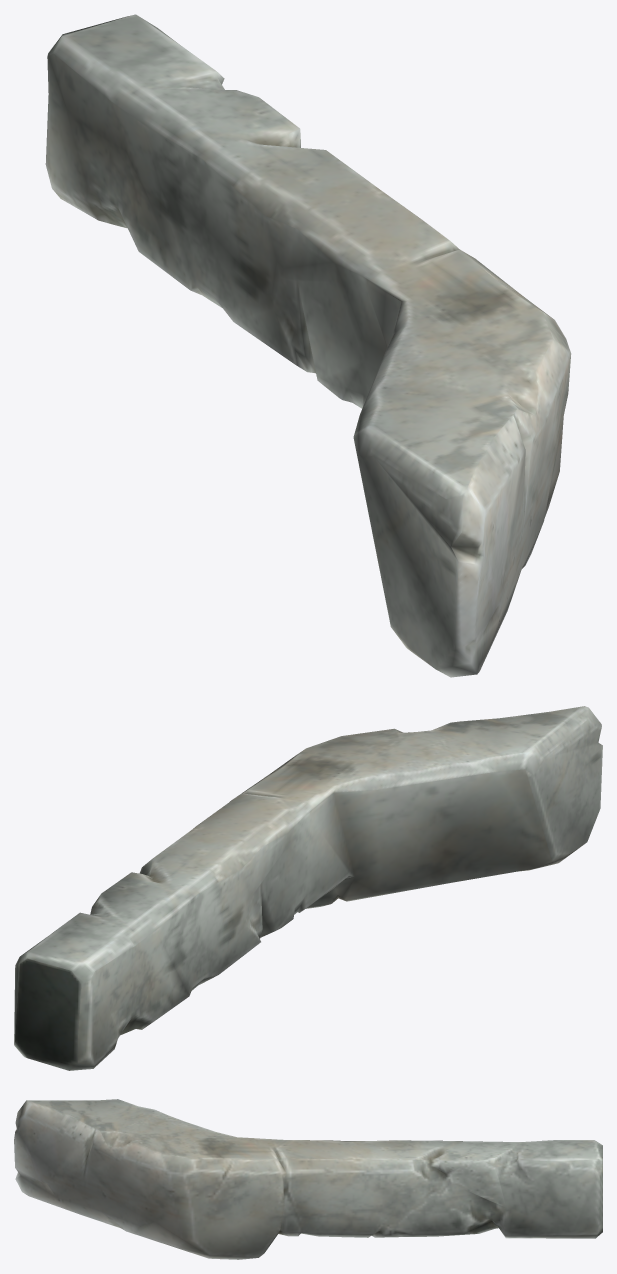
File: Vd_Vulgrim_Arch_B.fbx
3 views of the same model, one above another, from view 1: azimuth 30°, elevation 25°; view 2: azimuth 150°, elevation 25°; view 3: azimuth 270°, elevation 25° (orthographic). The views are drawn at different scales.
Parts seen in each view (by area): view 1: Vd_Vulgrim_Arch_B; view 2: Vd_Vulgrim_Arch_B; view 3: Vd_Vulgrim_Arch_B.
Part boxes in pixels (x1,y1,x2,y2): Vd_Vulgrim_Arch_B: [45, 14, 571, 677]; Vd_Vulgrim_Arch_B: [14, 706, 602, 1070]; Vd_Vulgrim_Arch_B: [14, 1099, 602, 1259].
Size of the model in its own units: 274 by 189 by 995.
